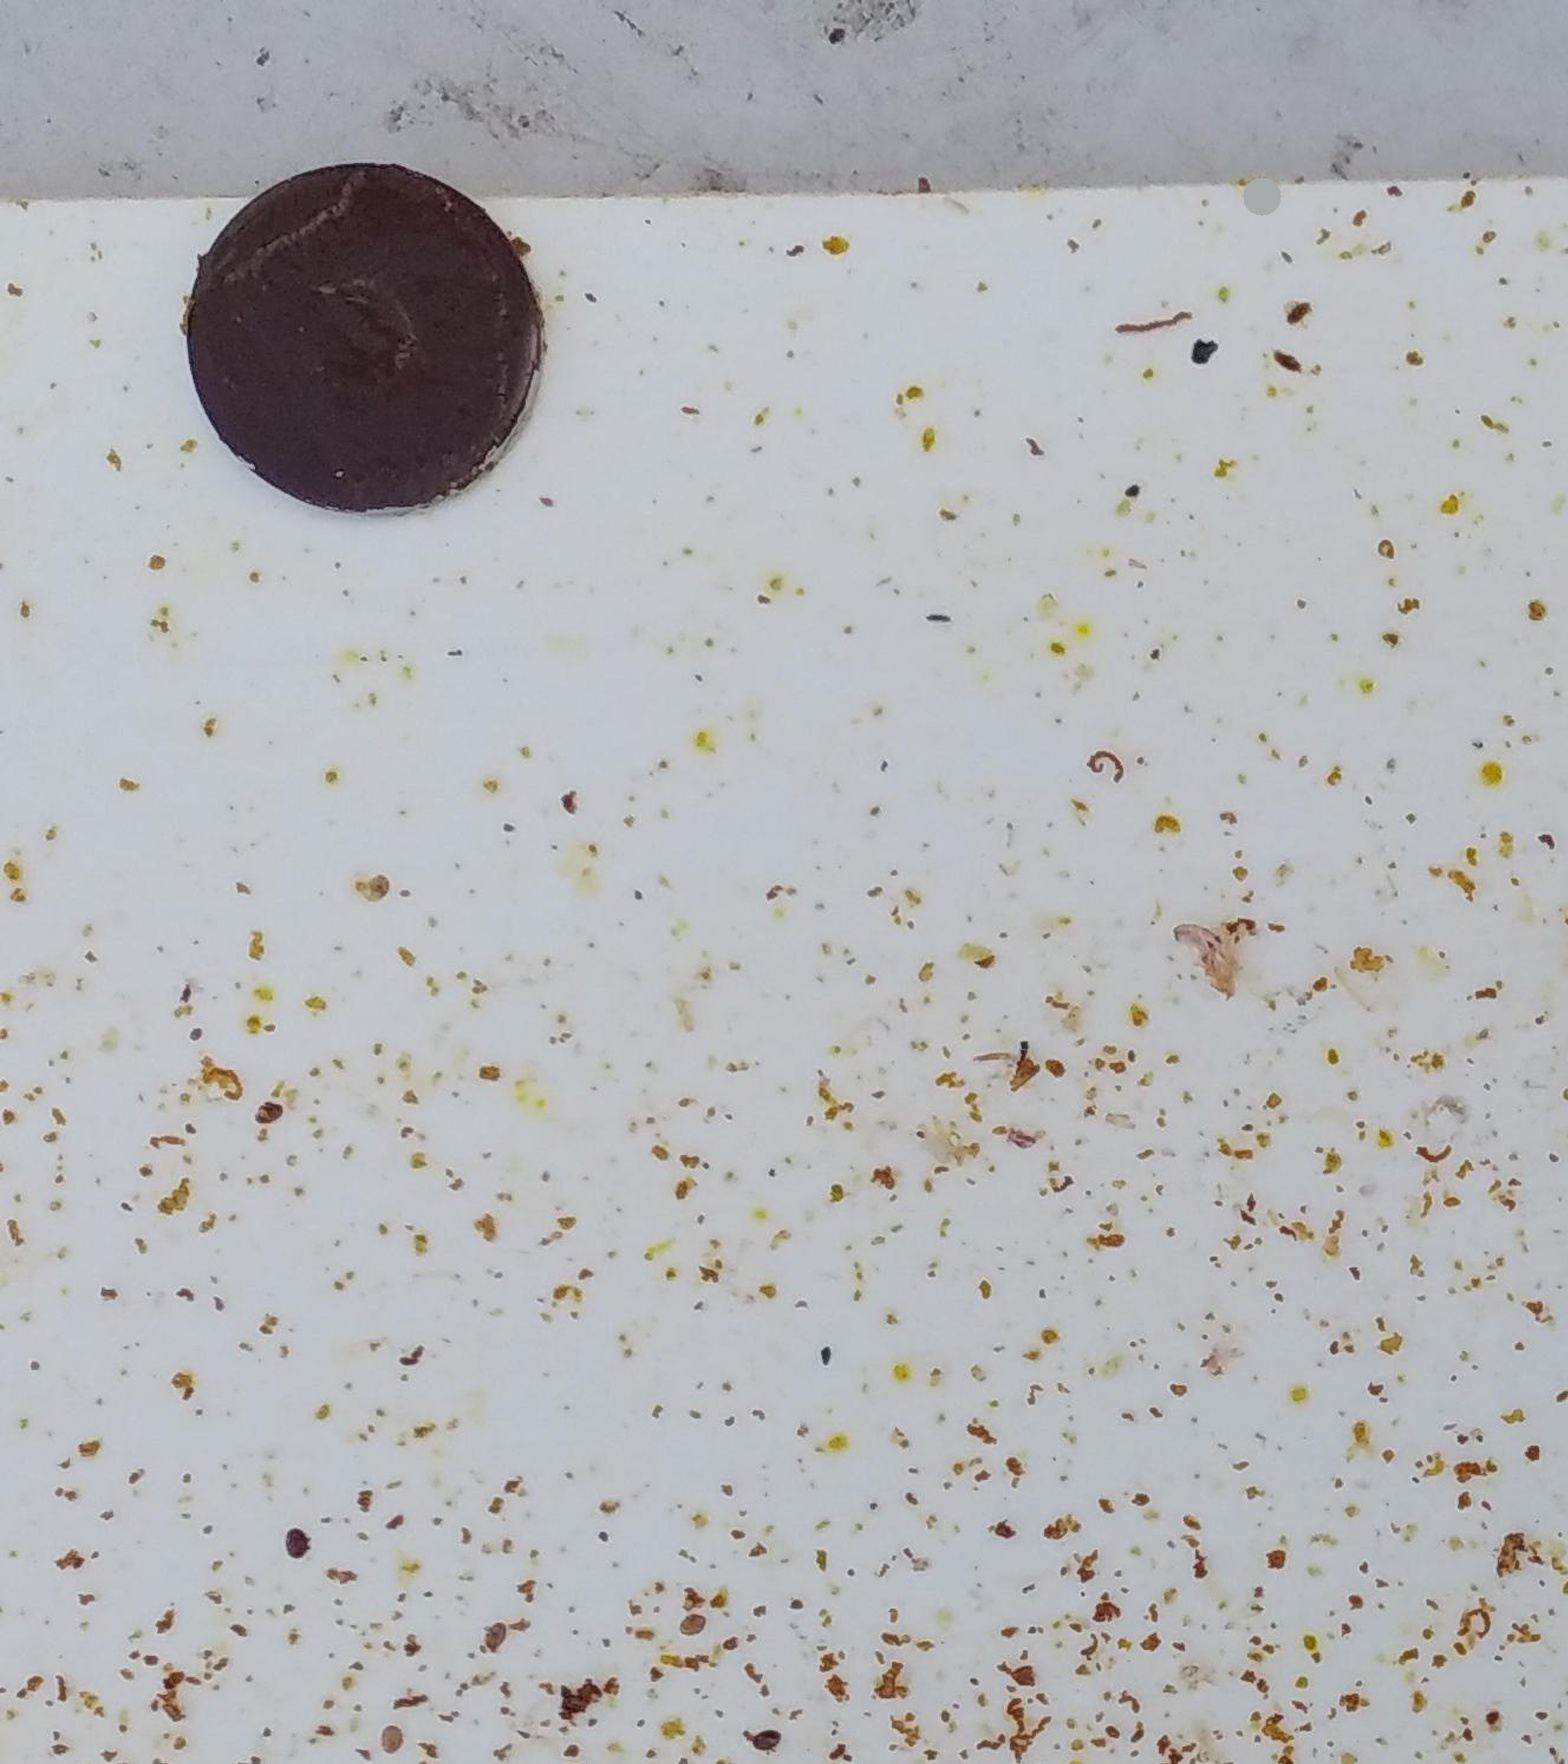Varroa: (678, 1611, 708, 1641), (375, 1725, 406, 1753), (483, 1617, 510, 1644), (754, 1731, 779, 1759), (263, 1092, 288, 1118), (285, 1536, 306, 1561)
